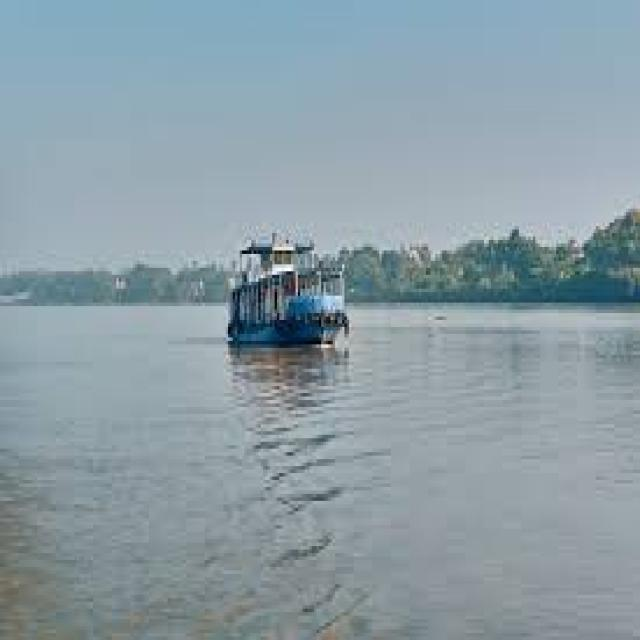fishing boat: (219, 225, 350, 346)
